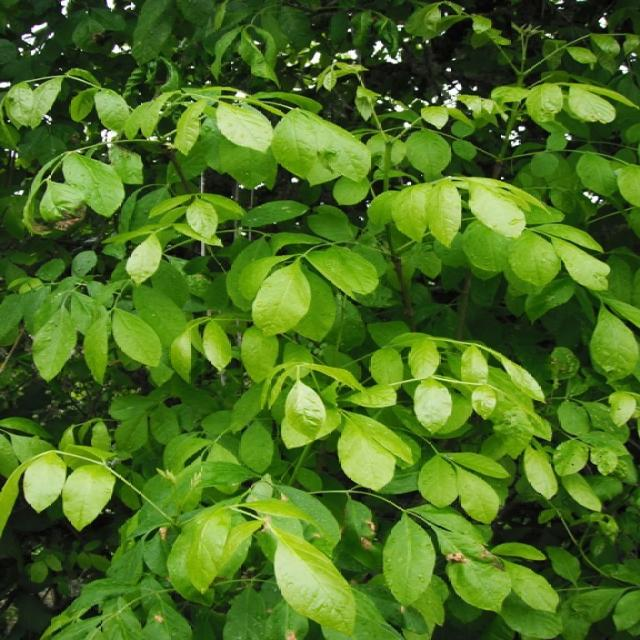Fraxinus latifolia: (0, 104, 544, 640)
